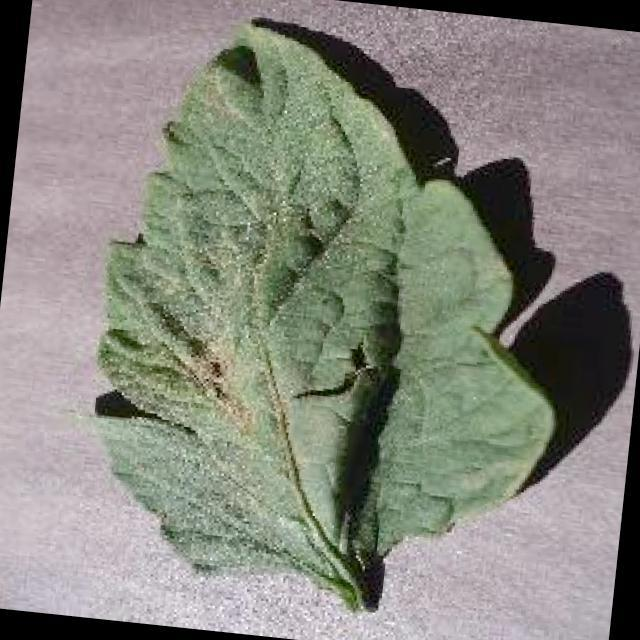Tomato Early blight leaf: (64, 5, 598, 612)
